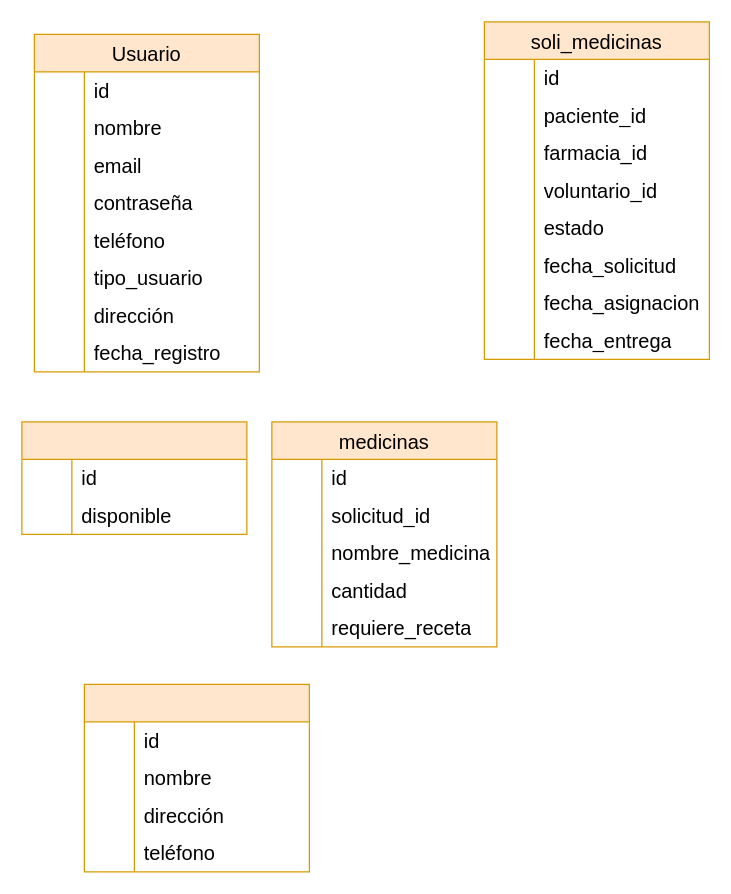
This 731x894 diagram has some shape labels left out. The shapes that lost their labels are listed below. From the top down, each one's box as (x1, y1, x2, y2) in pixels, then its label:
(21, 421, 247, 534): voluntarios
(83, 683, 309, 872): farmacias
